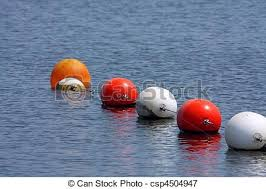buoy: (178, 98, 222, 136), (48, 58, 92, 90), (100, 77, 137, 105)
